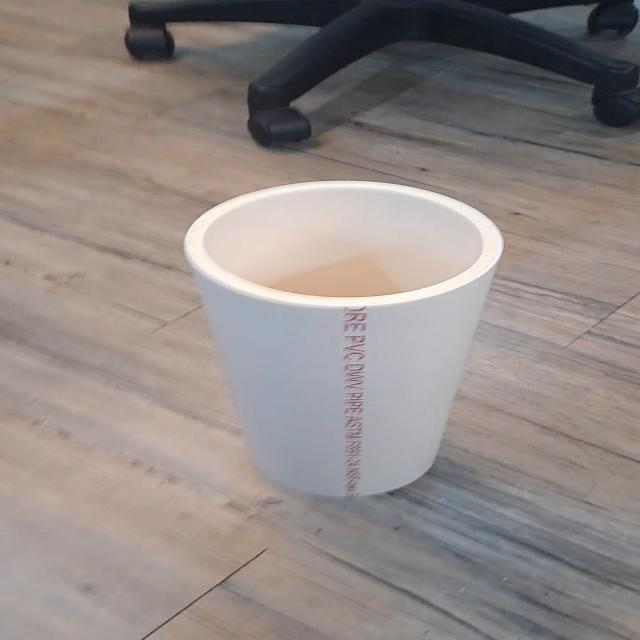CORAL: (167, 166, 520, 504)
